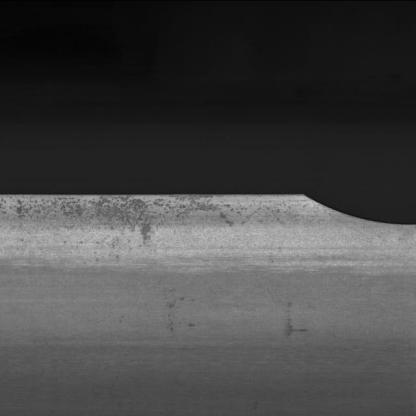crescent_gap: (298, 184, 416, 235)
